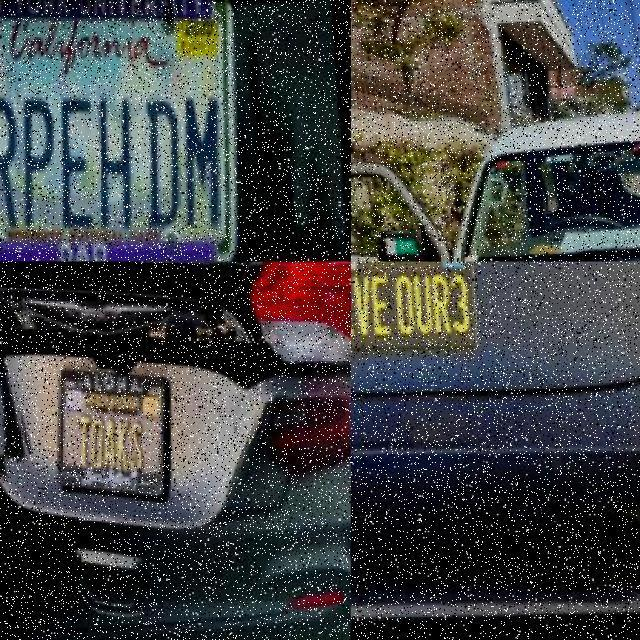LicensePlate: (0, 0, 232, 261), (40, 359, 168, 507), (351, 261, 479, 374)
